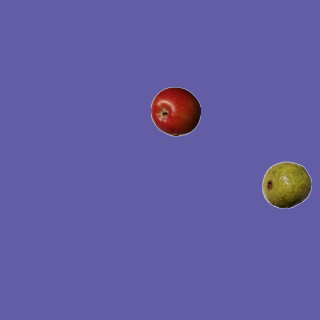Apple Braeburn: (150, 86, 200, 136)
Guava: (261, 159, 311, 209)
